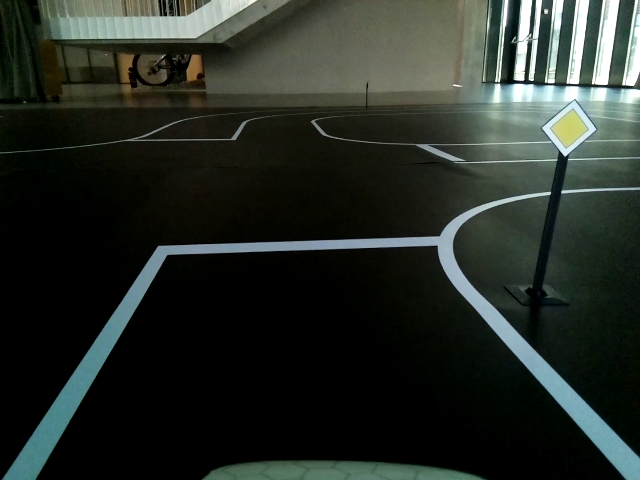priority: (543, 101, 598, 160)
